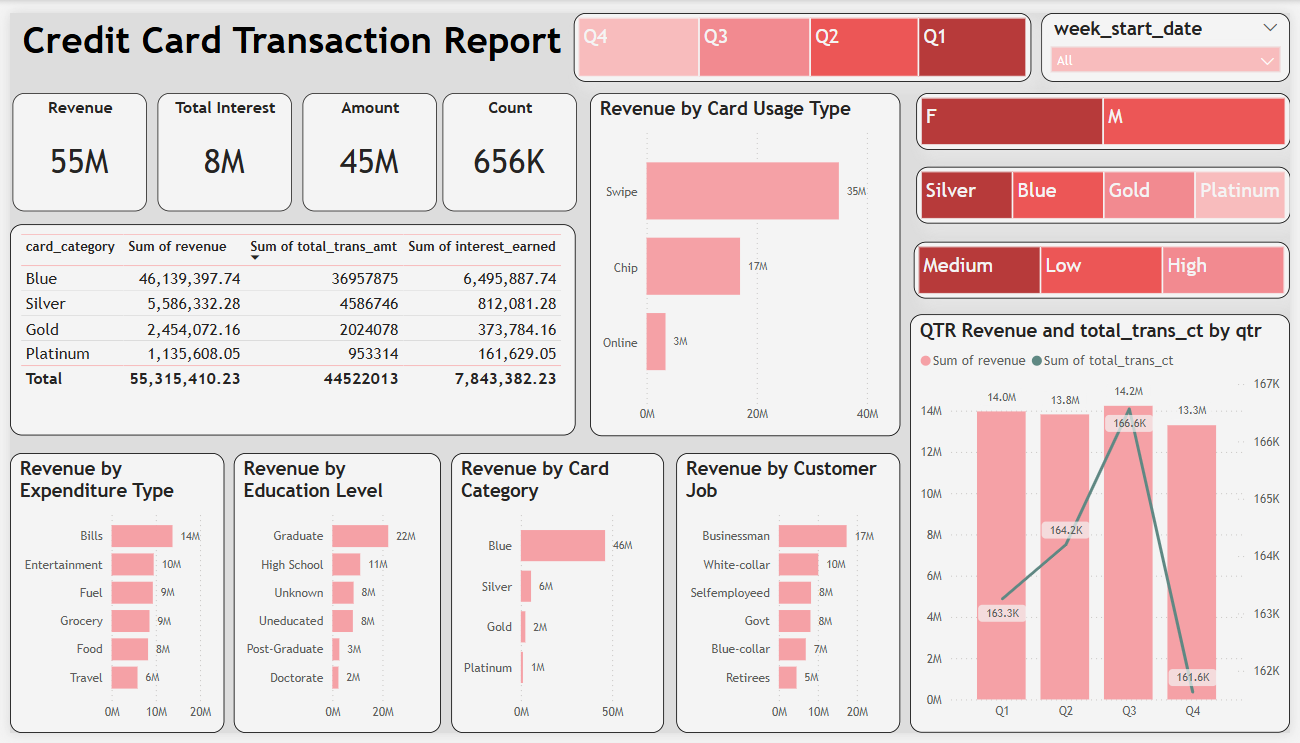

The page's visual inventory and layout, read from the dashboard file:
{"tool":"powerbi","page":{"name":"Credit Card Transaction Report","canvas":[1280,720],"ordinal":5},"visuals":[{"type":"textbox","box":[0,0,564,68],"z":0},{"type":"lineStackedColumnComboChart","title":"QTR Revenue and total_trans_ct by qtr","fields":{"Category":["public credit_card_details.qtr"],"Y":["Sum(public credit_card_details.revenue)"],"Y2":["Sum(public credit_card_details.total_trans_ct)"]},"box":[900,301.7,380,418.3],"z":1000},{"type":"barChart","title":"Revenue by Expenditure Type","fields":{"Category":["public credit_card_details.exp_type"],"Y":["Sum(public credit_card_details.revenue)"]},"box":[0,440,214.3,280],"z":2000},{"type":"barChart","title":"Revenue by Education Level","fields":{"Y":["Sum(public credit_card_details.revenue)"],"Category":["public customer_details.education_level"]},"box":[224.3,440,207.1,280],"z":3000},{"type":"barChart","title":"Revenue by Customer Job","fields":{"Y":["Sum(public credit_card_details.revenue)"],"Category":["public customer_details.customer_job"]},"box":[665.7,440,224.3,280],"z":4000},{"type":"barChart","title":"Revenue by Card Category","fields":{"Y":["Sum(public credit_card_details.revenue)"],"Category":["public credit_card_details.card_category"]},"box":[441.4,440,212.9,280],"z":5000},{"type":"barChart","title":"Revenue by Card Usage Type","fields":{"Y":["Sum(public credit_card_details.revenue)"],"Category":["public credit_card_details.use_chip"]},"box":[580,80,310,342.9],"z":6000},{"type":"tableEx","fields":{"Values":["public credit_card_details.card_category","Sum(public credit_card_details.revenue)","Sum(public credit_card_details.total_trans_amt)","Sum(public credit_card_details.interest_earned)"]},"box":[0,211.4,565.7,211.4],"z":7000},{"type":"card","title":"Revenue","fields":{"Values":["Sum(public credit_card_details.revenue)"]},"box":[2,80,134,118],"z":8000},{"type":"card","title":"Amount","fields":{"Values":["Sum(public credit_card_details.total_trans_amt)"]},"box":[292,80,134,118],"z":9000},{"type":"card","title":"Count","fields":{"Values":["Sum(public credit_card_details.total_trans_ct)"]},"box":[432,80,134,118],"z":10000},{"type":"card","title":"Total Interest","fields":{"Values":["Sum(public credit_card_details.interest_earned)"]},"box":[148,80,134,118],"z":11000},{"type":"slicer","fields":{"Values":["public credit_card_details.week_start_date"]},"box":[1031.2,0,248.8,68.8],"z":12000},{"type":"treemap","fields":{"Group":["public credit_card_details.qtr"],"Values":["Avg(public credit_card_details.client_num)"]},"box":[563.8,0,457.5,68.8],"z":13000},{"type":"treemap","fields":{"Group":["public customer_details.gender"],"Values":["Avg(public customer_details.client_num)"]},"box":[905.7,80,374.3,57.1],"z":14000},{"type":"treemap","fields":{"Values":["Avg(public customer_details.client_num)"],"Group":["public credit_card_details.card_category"]},"box":[905.7,154.3,374.3,57.1],"z":15000},{"type":"treemap","fields":{"Values":["Avg(public customer_details.client_num)"],"Group":["public customer_details.income_group"]},"box":[904.3,228.6,375.7,57.1],"z":16000}]}

Visuals, with their boxes in screenshot pixels (x1, y1, x2, y2), scaled from the page's 1280x720 canvas onto the 1300x743 screenshot:
textbox: {"left": 0, "top": 0, "right": 573, "bottom": 70}
"QTR Revenue and total_trans_ct by qtr" lineStackedColumnComboChart: {"left": 914, "top": 311, "right": 1299, "bottom": 742}
"Revenue by Expenditure Type" barChart: {"left": 0, "top": 454, "right": 218, "bottom": 742}
"Revenue by Education Level" barChart: {"left": 228, "top": 454, "right": 438, "bottom": 742}
"Revenue by Customer Job" barChart: {"left": 676, "top": 454, "right": 904, "bottom": 742}
"Revenue by Card Category" barChart: {"left": 448, "top": 454, "right": 665, "bottom": 742}
"Revenue by Card Usage Type" barChart: {"left": 589, "top": 83, "right": 904, "bottom": 436}
tableEx - public credit_card_details.card_category x Sum(public credit_card_details.revenue): {"left": 0, "top": 218, "right": 575, "bottom": 436}
"Revenue" card: {"left": 2, "top": 83, "right": 138, "bottom": 204}
"Amount" card: {"left": 297, "top": 83, "right": 433, "bottom": 204}
"Count" card: {"left": 439, "top": 83, "right": 575, "bottom": 204}
"Total Interest" card: {"left": 150, "top": 83, "right": 286, "bottom": 204}
slicer - public credit_card_details.week_start_date: {"left": 1047, "top": 0, "right": 1299, "bottom": 71}
treemap - public credit_card_details.qtr x Avg(public credit_card_details.client_num): {"left": 573, "top": 0, "right": 1037, "bottom": 71}
treemap - public customer_details.gender x Avg(public customer_details.client_num): {"left": 920, "top": 83, "right": 1299, "bottom": 141}
treemap - Avg(public customer_details.client_num) x public credit_card_details.card_category: {"left": 920, "top": 159, "right": 1299, "bottom": 218}
treemap - Avg(public customer_details.client_num) x public customer_details.income_group: {"left": 918, "top": 236, "right": 1299, "bottom": 295}
